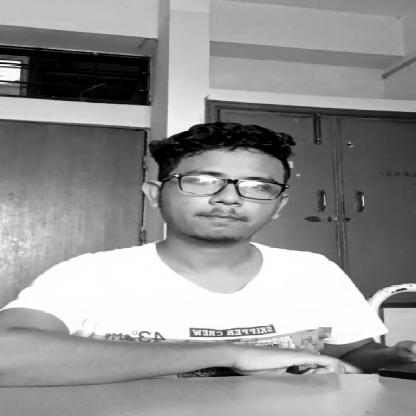Normal: (160, 124, 314, 254)
